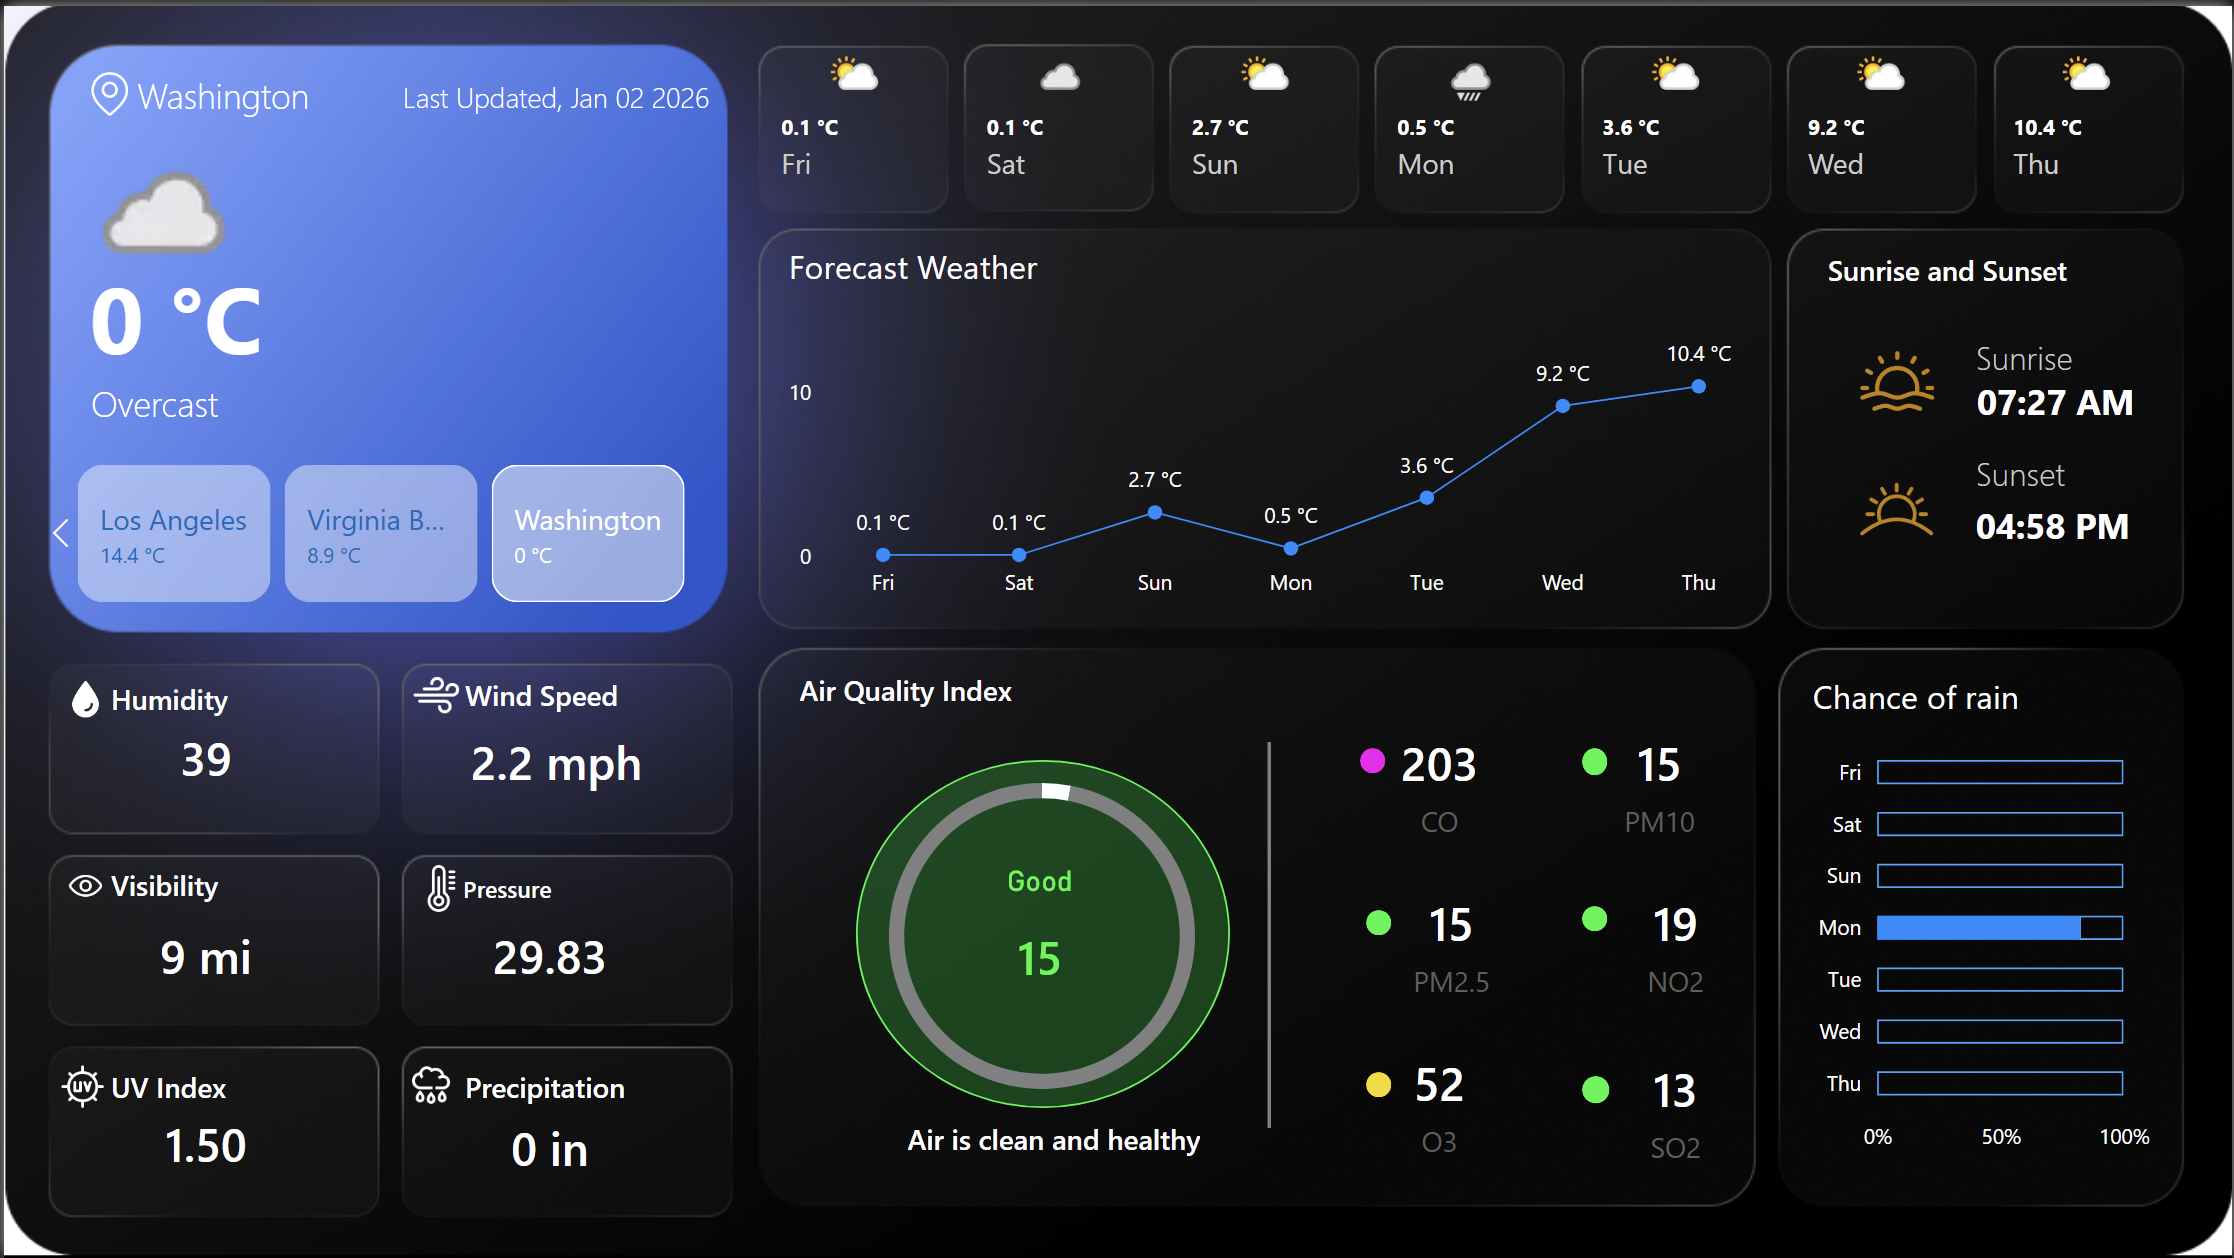

What the dashboard file says about the page in this screenshot:
{"tool":"powerbi","page":{"name":"Page 1","canvas":[1280,720],"ordinal":0},"visuals":[{"type":"shape","box":[489.7,433.3,214.9,200],"z":0},{"type":"donutChart","fields":{"Y":["Sum(Current_Data.current.air_quality.pm10)","_Measures.Left_value_PM10"]},"box":[423,419.5,347.1,229.9],"z":1000},{"type":"advancedSlicerVisual","fields":{"Values":["Locations.location.name"],"Label":["_Measures.Curr_Temp_C"]},"box":[16.9,258.4,401.1,89.9],"z":2000},{"type":"shape","box":[43.8,137.1,202.2,78.7],"z":3000},{"type":"shape","box":[47.6,208.2,177.2,39.3],"z":4000},{"type":"shape","box":[73.8,30.9,128.5,39.3],"z":5000},{"type":"shape","box":[202.2,32.1,205.8,39.3],"z":6000},{"type":"image","box":[48.8,34.5,25,32.1],"z":7000},{"type":"cardVisual","fields":{"Data":["Min(Current_Data.current.condition.icon)"]},"box":[16.9,11.2,149.4,215.7],"z":8000},{"type":"image","box":[35.7,487.7,22.6,36.9],"z":9000},{"type":"shape","box":[58.3,485.4,67.8,39.3],"z":10000},{"type":"image","box":[35.7,381.9,22.6,33.3],"z":11000},{"type":"shape","box":[58.3,600.7,79.7,39.3],"z":12000},{"type":"shape","box":[261.7,600.7,109.4,39.3],"z":13000},{"type":"shape","box":[261.2,487.5,68.8,40],"z":14000},{"type":"shape","box":[261.7,375.9,95.2,39.3],"z":15000},{"type":"shape","box":[58.3,378.3,79.7,39.3],"z":16000},{"type":"image","box":[32.1,596,26.2,48.8],"z":17000},{"type":"image","box":[234,377,28,38],"z":18000},{"type":"image","box":[238,490,27,35],"z":19000},{"type":"image","box":[226.6,606.3,38,26.6],"z":20000},{"type":"card","fields":{"Values":["Sum(Current_Data.current.humidity)"]},"box":[58.8,383.8,115,98.8],"z":21000},{"type":"card","fields":{"Values":["Sum(Current_Data.current.pressure_in)"]},"box":[256.2,497.5,115,98.8],"z":22000},{"type":"card","fields":{"Values":["_Measures.visibility"]},"box":[58.8,497.5,115,98.8],"z":23000},{"type":"card","fields":{"Values":["_Measures.Wind_Speed"]},"box":[251.2,386.6,131.7,98.8],"z":24000},{"type":"card","fields":{"Values":["Sum(Current_Data.current.uv)"]},"box":[58.8,606.2,115,98.8],"z":25000},{"type":"card","fields":{"Values":["_Measures.Precip"]},"box":[256.2,607.5,115,98.8],"z":26000},{"type":"advancedSlicerVisual","fields":{"Values":["Forecast_Day.Day_name"]},"box":[428.6,18.6,832.9,100],"z":27000},{"type":"lineChart","title":"Forecast Weather","fields":{"Category":["Forecast_Day.Day_name"],"Y":["Sum(Forecast_Day.forecast.forecastday.day.avgtemp_c)"]},"box":[445.7,137.1,564.3,212.9],"z":28000},{"type":"shape","box":[1045.7,137.1,148.6,28.6],"z":29000},{"type":"shape","box":[1131.4,207.1,105.7,40],"z":30000},{"type":"shape","box":[1131.4,282.9,105.7,30],"z":31000},{"type":"shape","box":[1131.4,187.1,148.6,28.6],"z":32000},{"type":"shape","box":[1131.4,254.3,148.6,28.6],"z":33000},{"type":"image","box":[1059.8,258.5,56.1,61],"z":34000},{"type":"image","box":[1056.1,193.9,63.4,42.7],"z":35000},{"type":"hundredPercentStackedBarChart","title":"Chance of rain","fields":{"Y":["Sum(Forecast_Day.forecast.forecastday.day.daily_chance_of_rain)","_Measures.Left_Value_rain"],"Category":["Forecast_Day.Day_name"]},"box":[1034.1,384.1,203.7,284.1],"z":36000},{"type":"shape","box":[454.9,378,148.8,28],"z":37000},{"type":"card","fields":{"Values":["Sum(Current_Data.current.air_quality.pm10)"]},"box":[906.1,412.2,91.5,68.3],"z":38000},{"type":"card","fields":{"Values":["Sum(Current_Data.current.air_quality.so2)"]},"box":[914.6,600,91.5,68.3],"z":39000},{"type":"card","fields":{"Values":["Sum(Current_Data.current.air_quality.o3)"]},"box":[779.3,596.3,91.5,68.3],"z":40000},{"type":"card","fields":{"Values":["Sum(Current_Data.current.air_quality.no2)"]},"box":[914.6,504.9,91.5,68.3],"z":41000},{"type":"card","fields":{"Values":["Sum(Current_Data.current.air_quality.pm2_5)"]},"box":[786.6,504.9,91.5,68.3],"z":42000},{"type":"card","fields":{"Values":["Sum(Current_Data.current.air_quality.co)"]},"box":[779.3,412.2,91.5,68.3],"z":43000},{"type":"shape","box":[779.3,426.8,14.6,14.6],"z":44000},{"type":"shape","box":[907.3,614.6,15.9,15.9],"z":45000},{"type":"shape","box":[782.9,612.2,14.6,14.6],"z":46000},{"type":"shape","box":[782.9,519.5,14.6,14.6],"z":47000},{"type":"shape","box":[907.3,517.1,14.6,14.6],"z":48000},{"type":"shape","box":[907.3,426.8,14.6,15.9],"z":49000},{"type":"shape","box":[704.9,423.2,45.1,222],"z":50000},{"type":"shape","box":[475.9,620.7,255.2,59.8],"z":51000},{"type":"card","fields":{"Values":["Sum(Current_Data.current.air_quality.pm10)"]},"box":[550.6,493.1,89.7,89.7],"z":52000}]}

Visuals, with their boxes in screenshot pixels (x1, y1, x2, y2), scaled from the page's 1280x720 canvas onto the 2234x1258 screenshot:
shape: (x1=855, y1=757, x2=1230, y2=1107)
donutChart - Sum(Current_Data.current.air_quality.pm10) x _Measures.Left_value_PM10: (x1=738, y1=733, x2=1344, y2=1135)
advancedSlicerVisual - Locations.location.name x _Measures.Curr_Temp_C: (x1=29, y1=451, x2=730, y2=609)
shape: (x1=76, y1=240, x2=429, y2=377)
shape: (x1=83, y1=364, x2=392, y2=432)
shape: (x1=129, y1=54, x2=353, y2=123)
shape: (x1=353, y1=56, x2=712, y2=125)
image: (x1=85, y1=60, x2=129, y2=116)
cardVisual - Min(Current_Data.current.condition.icon): (x1=29, y1=20, x2=290, y2=396)
image: (x1=62, y1=852, x2=102, y2=917)
shape: (x1=102, y1=848, x2=220, y2=917)
image: (x1=62, y1=667, x2=102, y2=725)
shape: (x1=102, y1=1050, x2=241, y2=1118)
shape: (x1=457, y1=1050, x2=648, y2=1118)
shape: (x1=456, y1=852, x2=576, y2=922)
shape: (x1=457, y1=657, x2=623, y2=725)
shape: (x1=102, y1=661, x2=241, y2=730)
image: (x1=56, y1=1041, x2=102, y2=1127)
image: (x1=408, y1=659, x2=457, y2=725)
image: (x1=415, y1=856, x2=463, y2=917)
image: (x1=395, y1=1059, x2=462, y2=1106)
card - Sum(Current_Data.current.humidity): (x1=103, y1=671, x2=303, y2=843)
card - Sum(Current_Data.current.pressure_in): (x1=447, y1=869, x2=648, y2=1042)
card - _Measures.visibility: (x1=103, y1=869, x2=303, y2=1042)
card - _Measures.Wind_Speed: (x1=438, y1=675, x2=668, y2=848)
card - Sum(Current_Data.current.uv): (x1=103, y1=1059, x2=303, y2=1232)
card - _Measures.Precip: (x1=447, y1=1061, x2=648, y2=1234)
advancedSlicerVisual - Forecast_Day.Day_name: (x1=748, y1=32, x2=2202, y2=207)
"Forecast Weather" lineChart: (x1=778, y1=240, x2=1763, y2=612)
shape: (x1=1825, y1=240, x2=2084, y2=290)
shape: (x1=1975, y1=362, x2=2159, y2=432)
shape: (x1=1975, y1=494, x2=2159, y2=547)
shape: (x1=1975, y1=327, x2=2233, y2=377)
shape: (x1=1975, y1=444, x2=2233, y2=494)
image: (x1=1850, y1=452, x2=1948, y2=558)
image: (x1=1843, y1=339, x2=1954, y2=413)
"Chance of rain" hundredPercentStackedBarChart: (x1=1805, y1=671, x2=2160, y2=1167)
shape: (x1=794, y1=660, x2=1054, y2=709)
card - Sum(Current_Data.current.air_quality.pm10): (x1=1581, y1=720, x2=1741, y2=840)
card - Sum(Current_Data.current.air_quality.so2): (x1=1596, y1=1048, x2=1756, y2=1168)
card - Sum(Current_Data.current.air_quality.o3): (x1=1360, y1=1042, x2=1520, y2=1161)
card - Sum(Current_Data.current.air_quality.no2): (x1=1596, y1=882, x2=1756, y2=1002)
card - Sum(Current_Data.current.air_quality.pm2_5): (x1=1373, y1=882, x2=1533, y2=1002)
card - Sum(Current_Data.current.air_quality.co): (x1=1360, y1=720, x2=1520, y2=840)
shape: (x1=1360, y1=746, x2=1386, y2=771)
shape: (x1=1584, y1=1074, x2=1611, y2=1102)
shape: (x1=1366, y1=1070, x2=1392, y2=1095)
shape: (x1=1366, y1=908, x2=1392, y2=933)
shape: (x1=1584, y1=903, x2=1609, y2=929)
shape: (x1=1584, y1=746, x2=1609, y2=773)
shape: (x1=1230, y1=739, x2=1309, y2=1127)
shape: (x1=831, y1=1085, x2=1276, y2=1189)
card - Sum(Current_Data.current.air_quality.pm10): (x1=961, y1=862, x2=1118, y2=1018)
